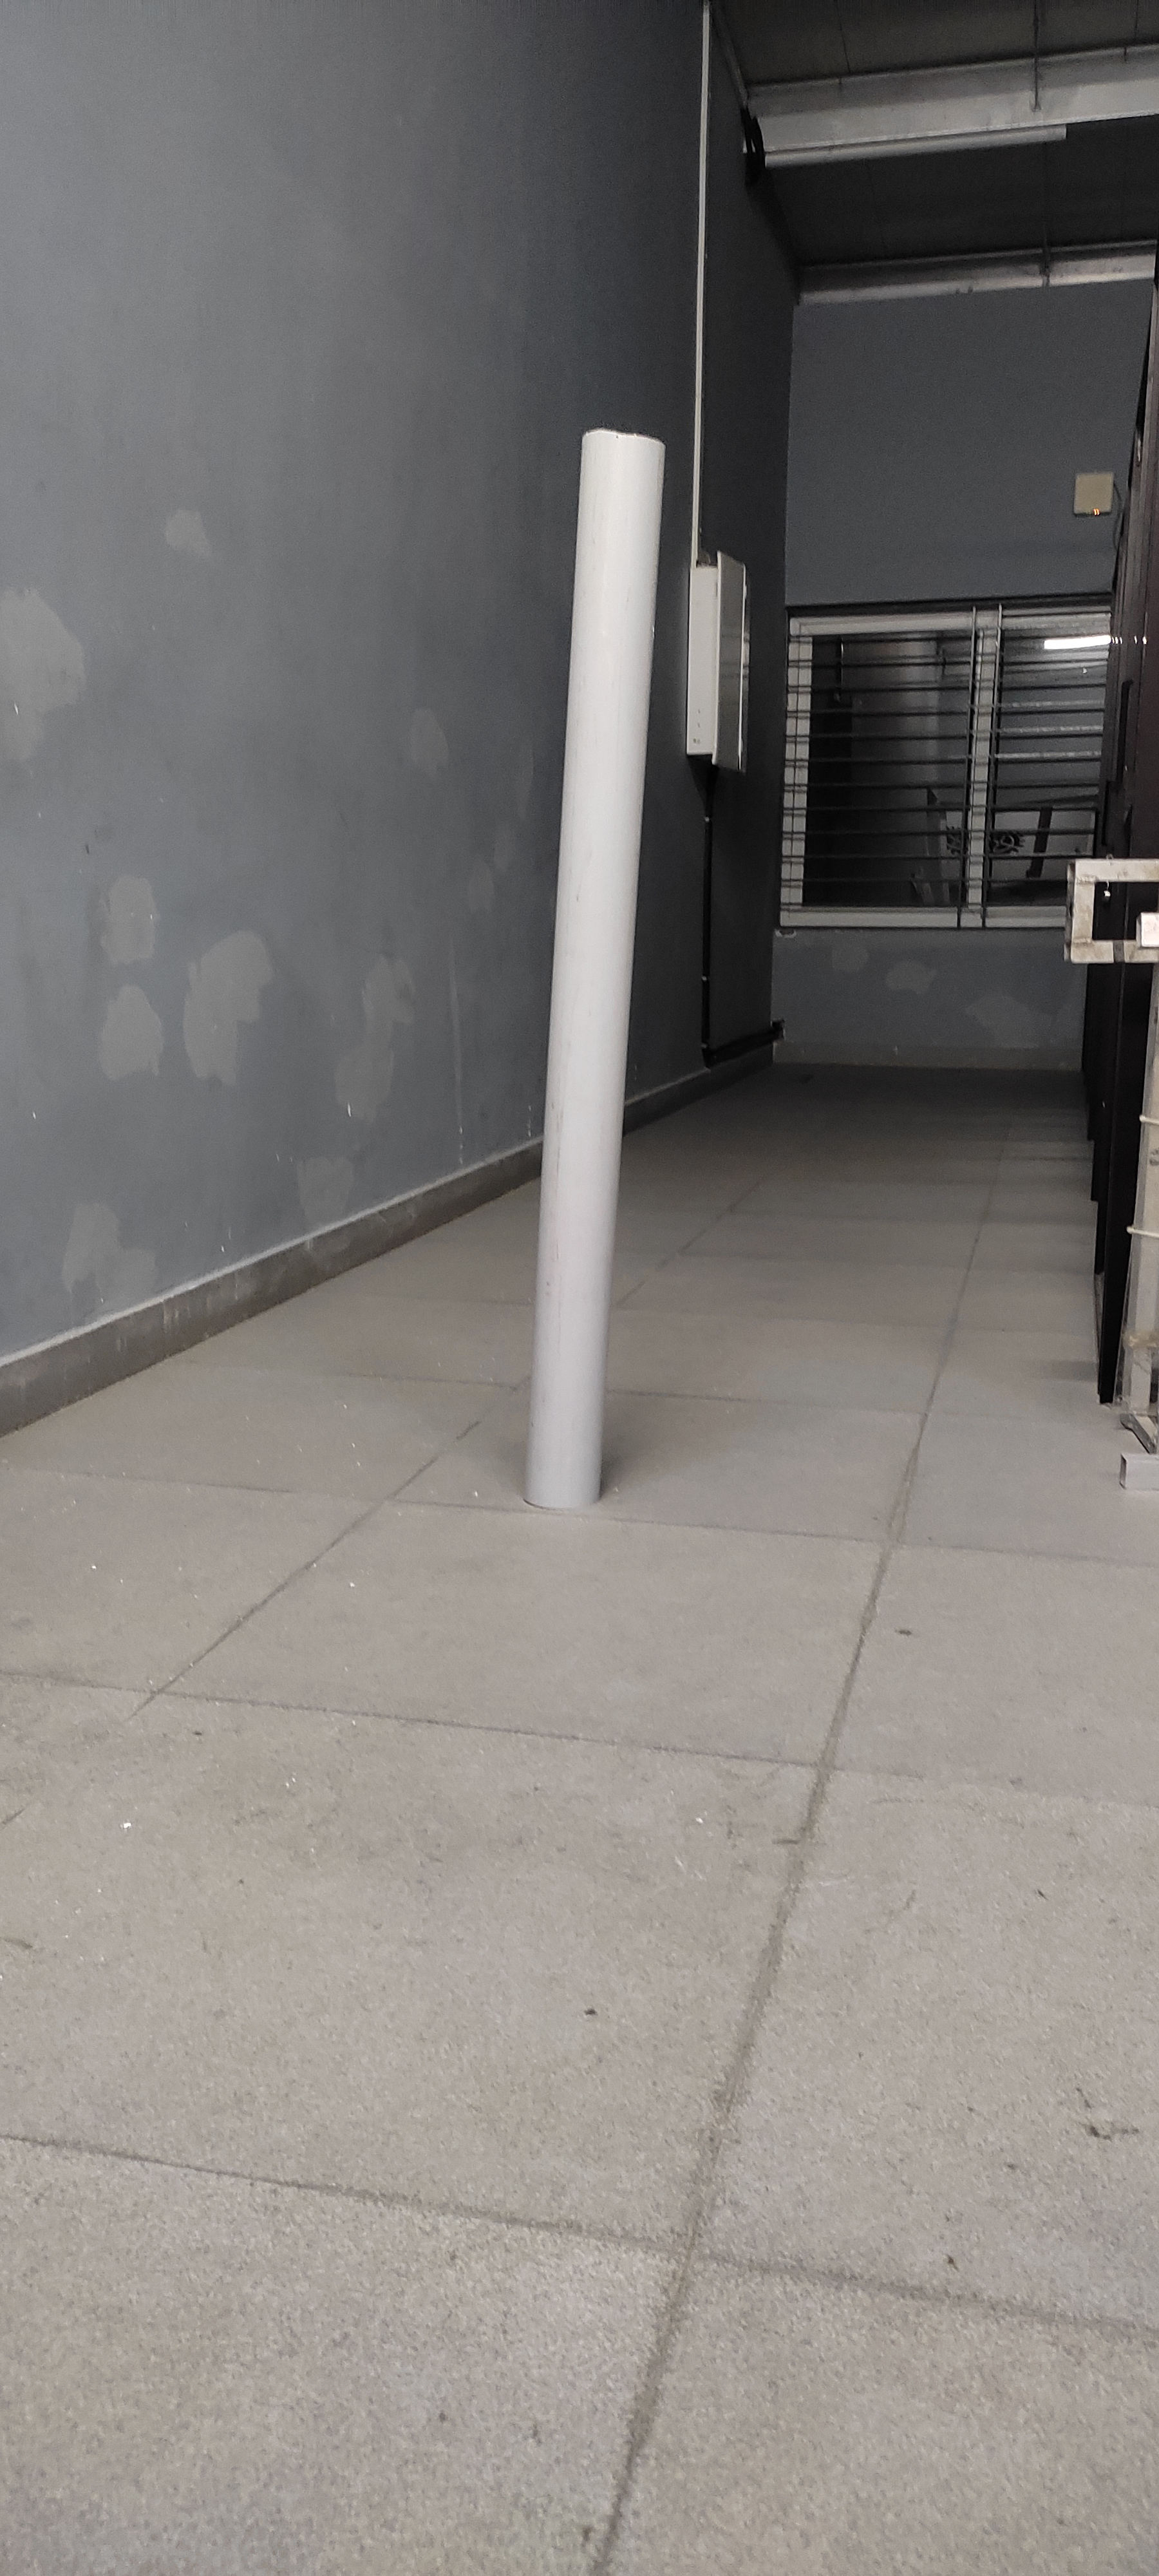pole: (488, 544, 673, 1761)
